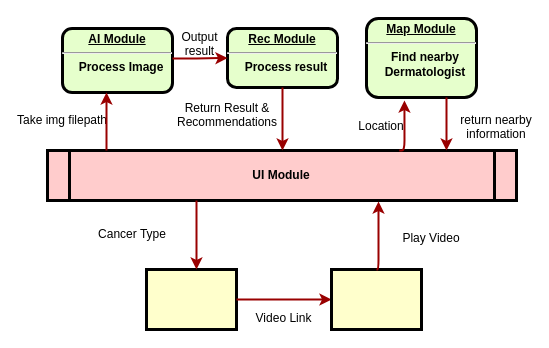
This 549x348 diagram has some shape labels left out. The box of each missing label's shape, as (x1, y1, x2, y2) in pixels:
Video Link Base: (144, 268, 238, 330)
Web browser: (330, 268, 422, 330)
